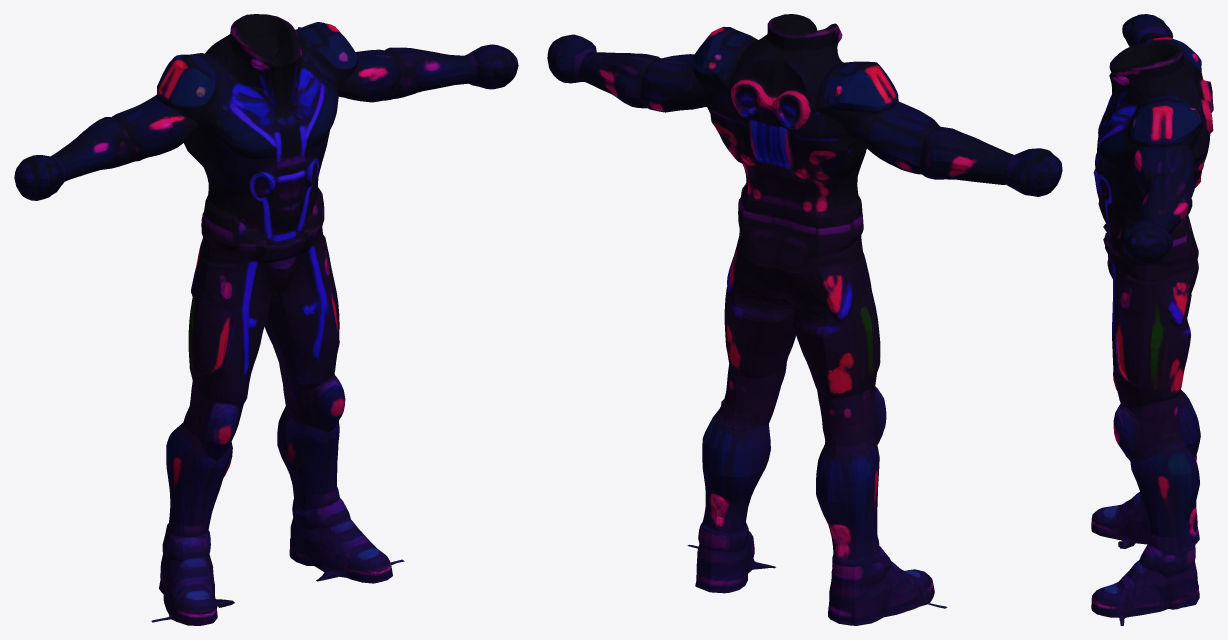
Rendered from body_base.glb.
The picture shows the model from 3 angles, left to right: view 1: azimuth 30°, elevation 25°; view 2: azimuth 150°, elevation 25°; view 3: azimuth 270°, elevation 25°; orthographic projection. The views are drawn at different scales.
Visible parts, largest first — view 1: world; view 2: world; view 3: world.
Boxes of the visible parts, x1,y1,x2,y2 form: world: (14, 14, 518, 625); world: (547, 14, 1062, 625); world: (1091, 14, 1213, 625).
Size of the model in its own units: 0.9387 by 1 by 0.214.
Materials: 1 (1 with a texture image).
